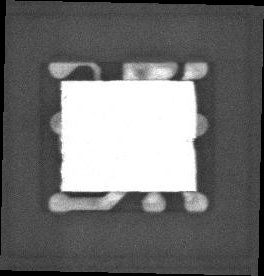DIE_BROKEN: (188, 136, 197, 151)
